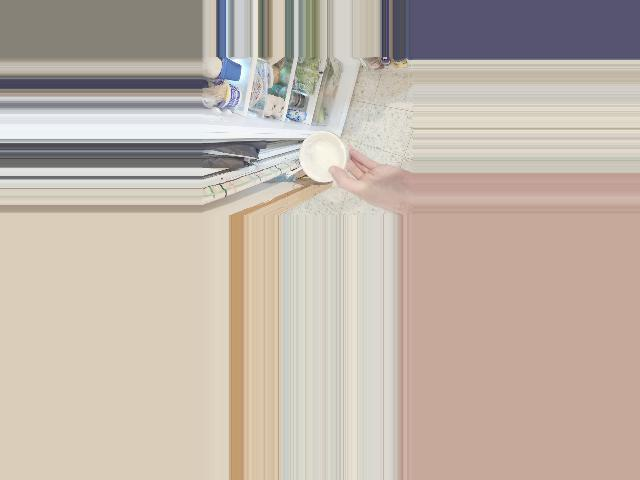cotage: (295, 130, 347, 180)
